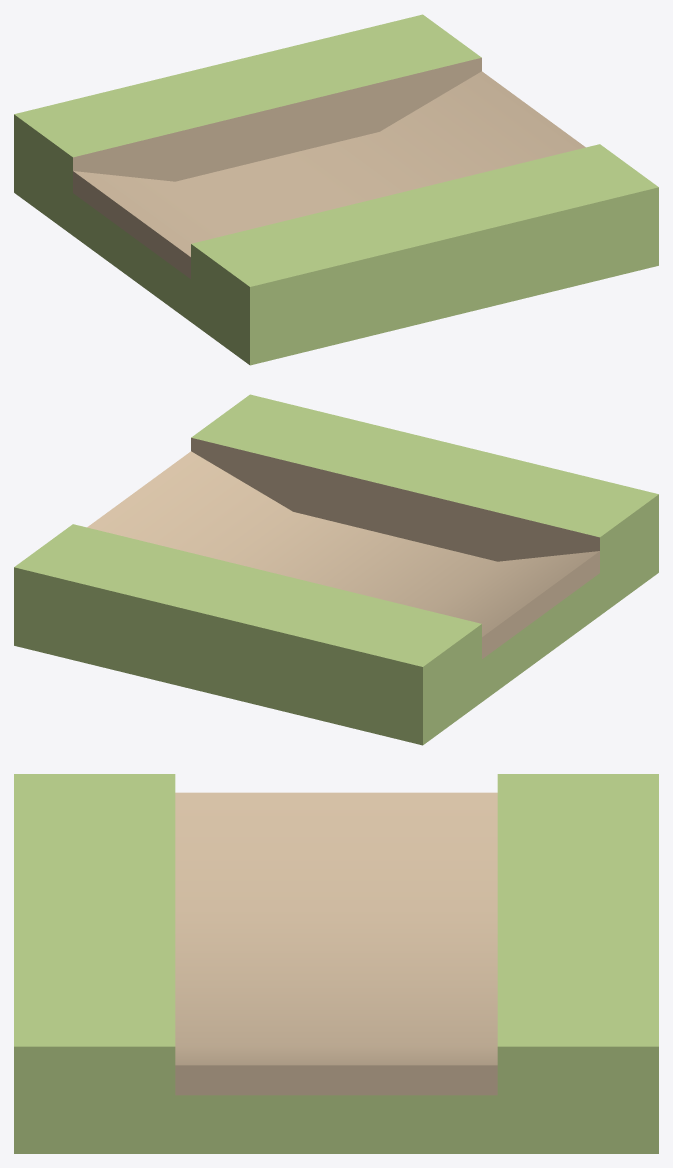
File: road_tile_015.glb
The picture shows the model from 3 angles, top to bottom: view 1: azimuth 30°, elevation 25°; view 2: azimuth 150°, elevation 25°; view 3: azimuth 270°, elevation 25°; orthographic projection. The views are drawn at different scales.
Parts seen in each view (by area): view 1: roadTile_015; view 2: roadTile_015; view 3: roadTile_015.
Boxes of the visible parts, box(x1,y1,x2,y2) form: roadTile_015: box(14, 14, 658, 365); roadTile_015: box(14, 394, 658, 745); roadTile_015: box(14, 774, 658, 1153).
Size of the model in its own units: 3 by 0.55 by 3.
